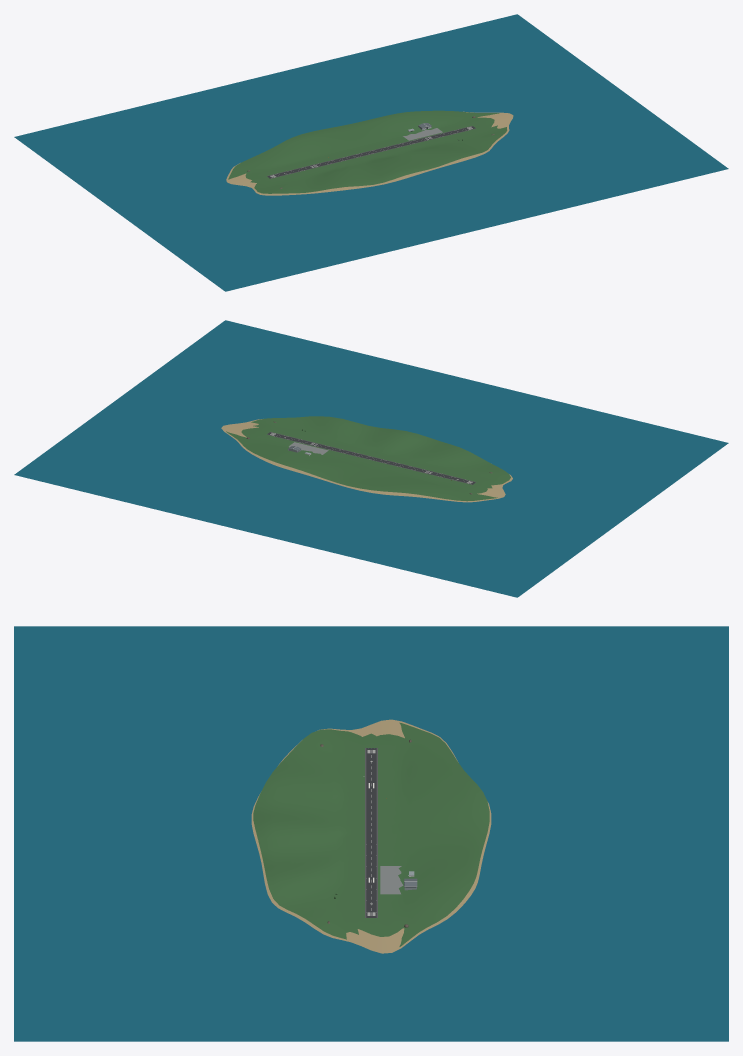
The model's file is field-kit.glb.
3 views of the same model, one above another, from view 1: azimuth 30°, elevation 25°; view 2: azimuth 150°, elevation 25°; view 3: azimuth 270°, elevation 25° (orthographic). The views are drawn at different scales.
Visible parts, largest first — view 1: OceanReferencePlane, IslandTerrain, BeachRing, Runway; view 2: OceanReferencePlane, IslandTerrain, BeachRing, Runway; view 3: OceanReferencePlane, IslandTerrain, BeachRing, Runway.
Boxes of the visible parts, x1=… form: OceanReferencePlane: x1=14, y1=14, x2=728, y2=291; IslandTerrain: x1=228, y1=110, x2=507, y2=193; BeachRing: x1=226, y1=111, x2=513, y2=195; Runway: x1=267, y1=126, x2=475, y2=178; OceanReferencePlane: x1=14, y1=320, x2=728, y2=597; IslandTerrain: x1=226, y1=416, x2=510, y2=501; BeachRing: x1=221, y1=419, x2=512, y2=502; Runway: x1=267, y1=432, x2=475, y2=484; OceanReferencePlane: x1=14, y1=626, x2=728, y2=1041; IslandTerrain: x1=253, y1=722, x2=489, y2=946; BeachRing: x1=251, y1=719, x2=491, y2=953; Runway: x1=366, y1=748, x2=376, y2=917.
Bounding box in the file's own units: 2200 × 20.33 × 1600.
